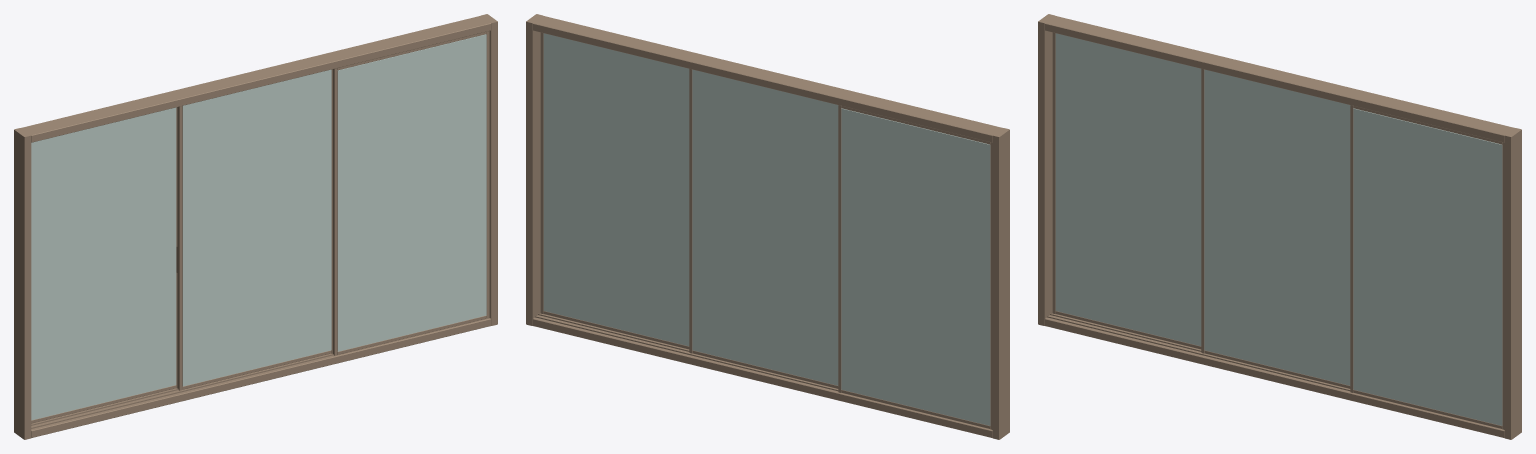
File: co-S140RP-3-quartz-1019.glb
3 renders of one model, left to right at view 1: azimuth 30°, elevation 25°; view 2: azimuth 150°, elevation 25°; view 3: azimuth 330°, elevation 25°, orthographic.
Parts seen in each view (by area): view 1: verre, structure; view 2: verre, structure; view 3: verre, structure.
Boxes of the visible parts, box(x1,y1,x2,y2) form: verre: box(31, 34, 486, 420); structure: box(14, 14, 497, 439); verre: box(543, 33, 990, 425); structure: box(526, 14, 1009, 439); verre: box(1055, 33, 1502, 425); structure: box(1038, 14, 1521, 439).
Bounding box in the file's own units: 3.6 × 2.2 × 0.14.
